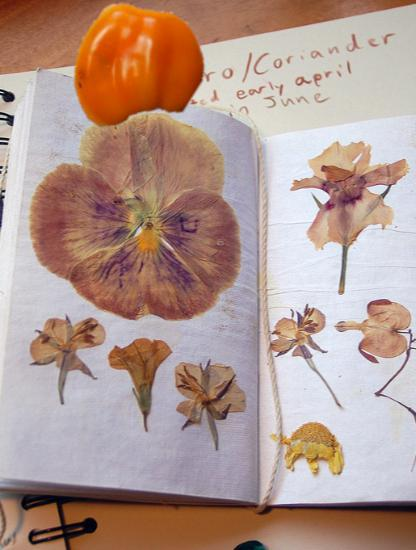Pepper: (67, 1, 206, 140)
